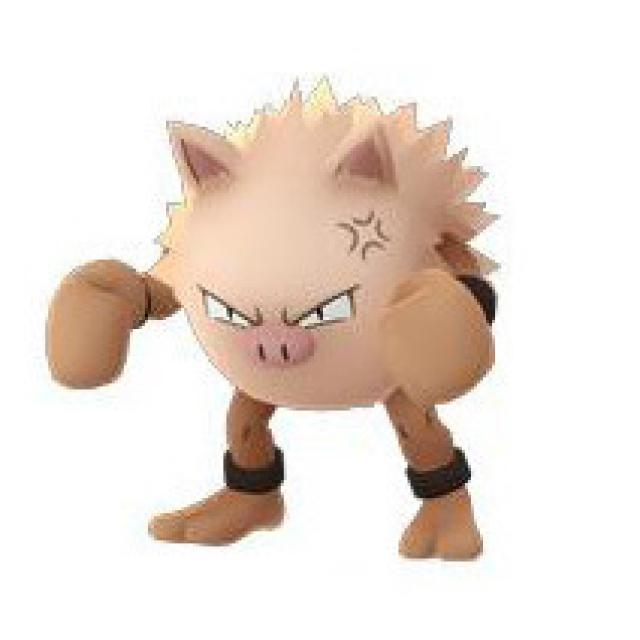Primeape: (139, 82, 497, 533)
